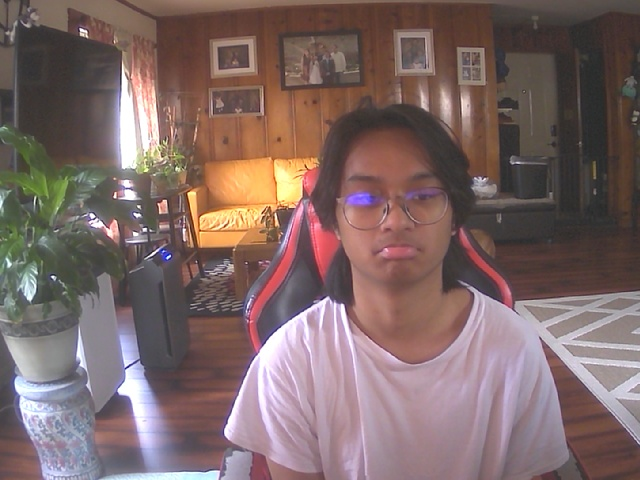sad: (330, 121, 464, 289)
